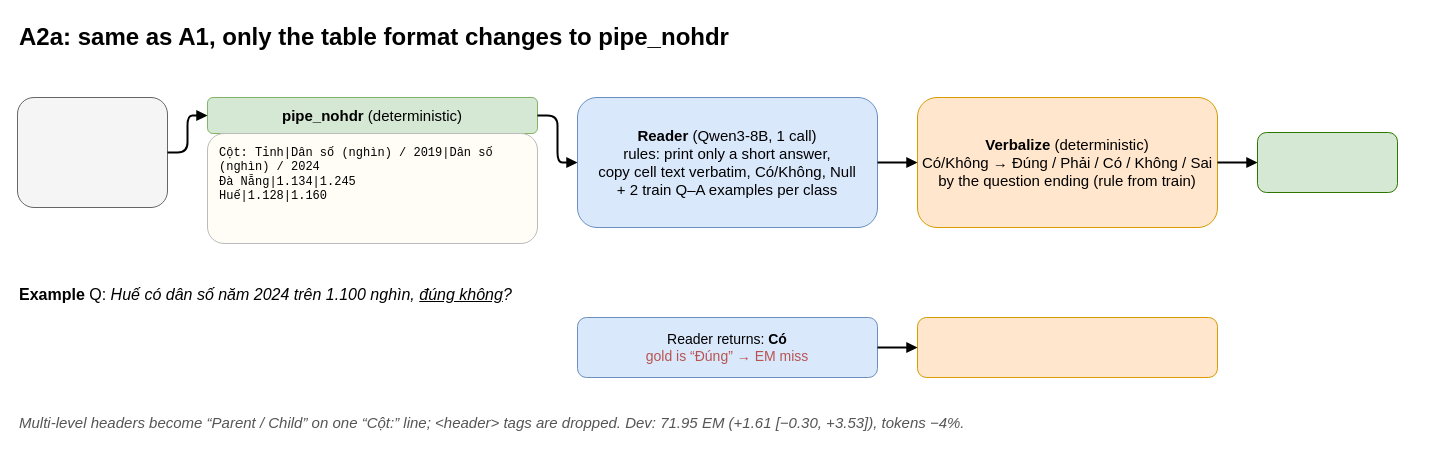
Some shapes in this 1435 by 454 pixel diagram are drawn without their labels. The box of each missing label's shape, as (x1, y1, x2, y2) in pixels:
Answer: (1256, 132, 1398, 192)
Question + HTML table: (16, 96, 168, 208)
Verbalize: ending “đúng không?” + Có → Đúng (matches gold): (916, 316, 1218, 378)
